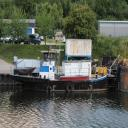tugboat: (8, 49, 112, 96)
